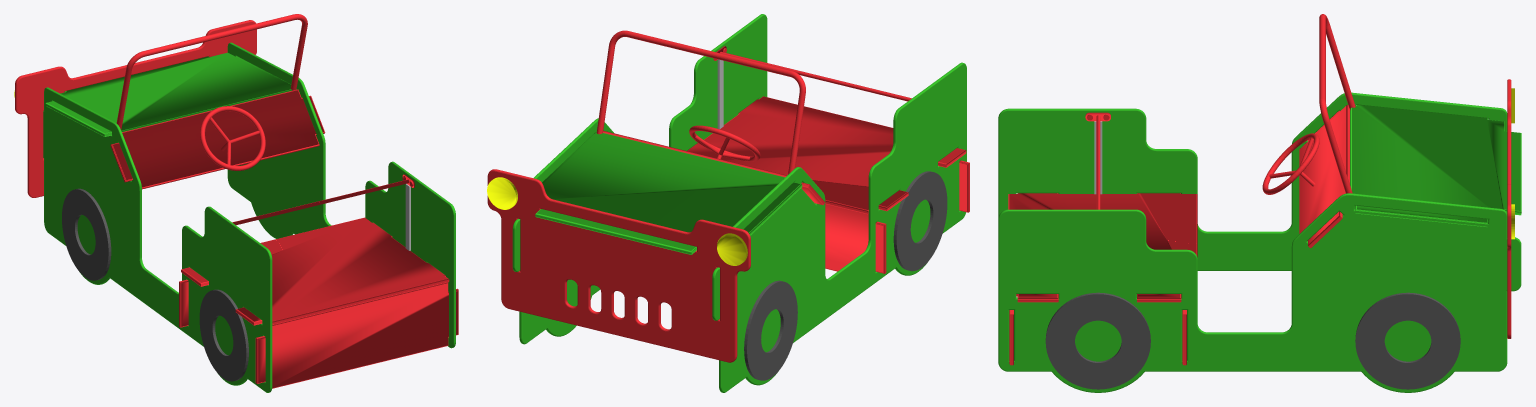
The picture shows the model from 3 angles, left to right: view 1: azimuth 30°, elevation 25°; view 2: azimuth 150°, elevation 25°; view 3: azimuth 270°, elevation 25°; orthographic projection. The views are drawn at different scales.
Visible parts, largest first — view 1: D_19_3; view 2: D_19_3; view 3: D_19_3.
Part boxes in pixels (x1=…): D_19_3: x1=14, y1=14, x2=458, y2=392; D_19_3: x1=487, y1=14, x2=969, y2=392; D_19_3: x1=998, y1=14, x2=1521, y2=392.
Size of the model in its own units: 134 by 135 by 224.
